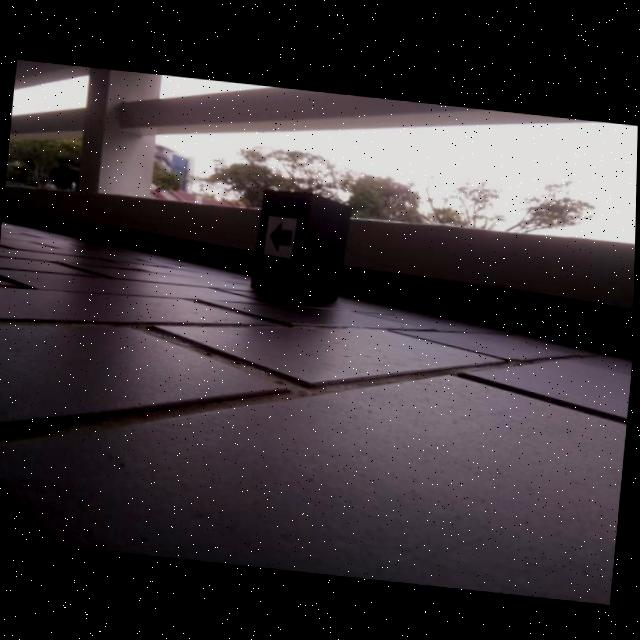LEFT: (270, 218, 293, 250)
